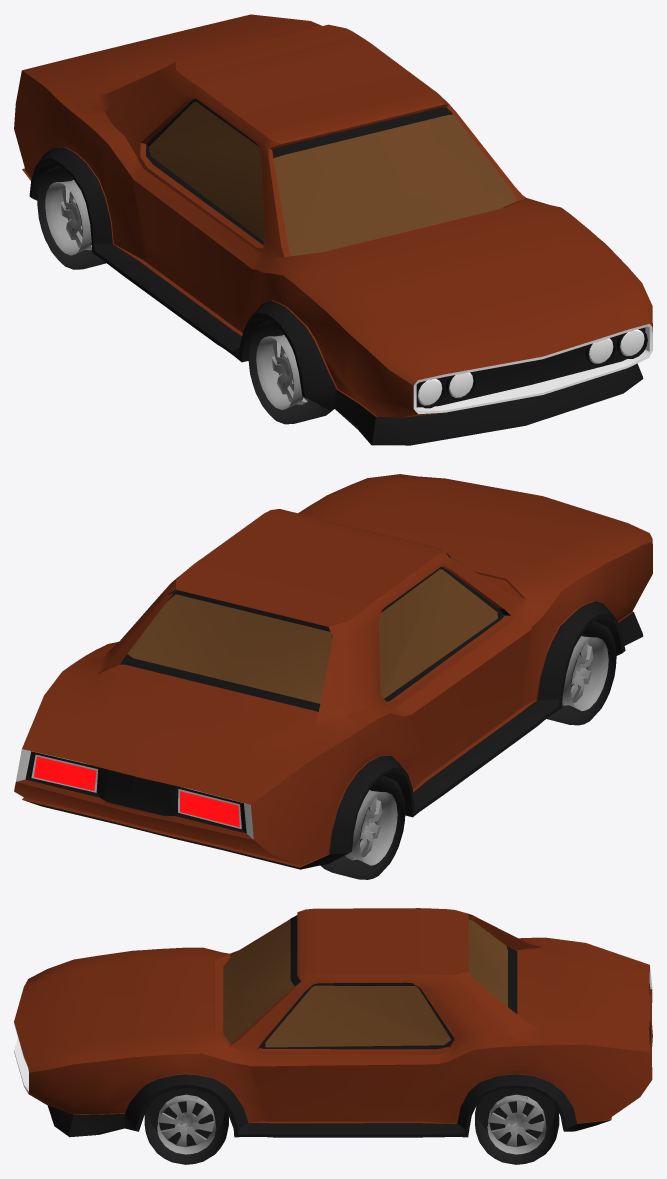
The model's file is dodge.fbx.
3 renders of one model, top to bottom at view 1: azimuth 30°, elevation 25°; view 2: azimuth 150°, elevation 25°; view 3: azimuth 270°, elevation 25°, orthographic. The views are drawn at different scales.
Visible parts, largest first — view 1: Plane.001, Circle.002, Circle.003; view 2: Plane.001, Circle.003, Circle.002; view 3: Plane.001, Circle.004, Circle.001.
Part boxes in pixels (x1,y1,x2,y2): Plane.001: (14,14,652,445); Circle.002: (248,320,334,424); Circle.003: (37,165,106,269); Plane.001: (14,474,652,869); Circle.003: (320,776,405,879); Circle.002: (547,621,616,725); Plane.001: (14,908,652,1137); Circle.004: (475,1088,559,1164); Circle.001: (144,1088,228,1164).
Size of the model in its own units: 699 by 438 by 1536.
